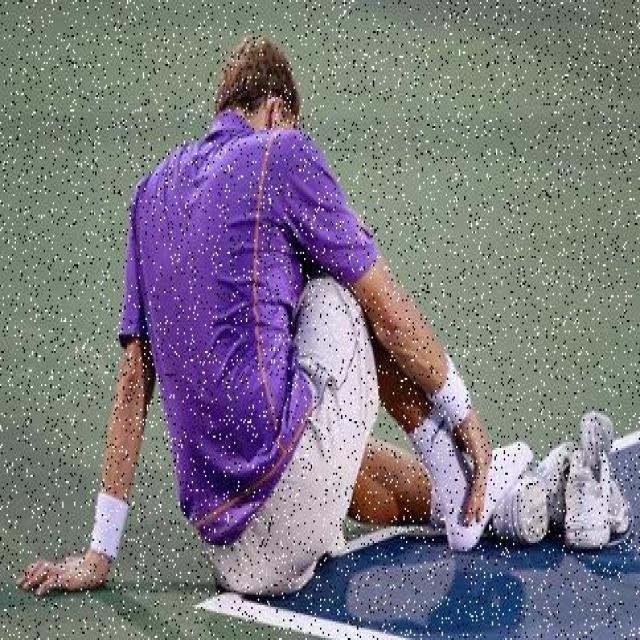fall: (80, 41, 510, 572)
